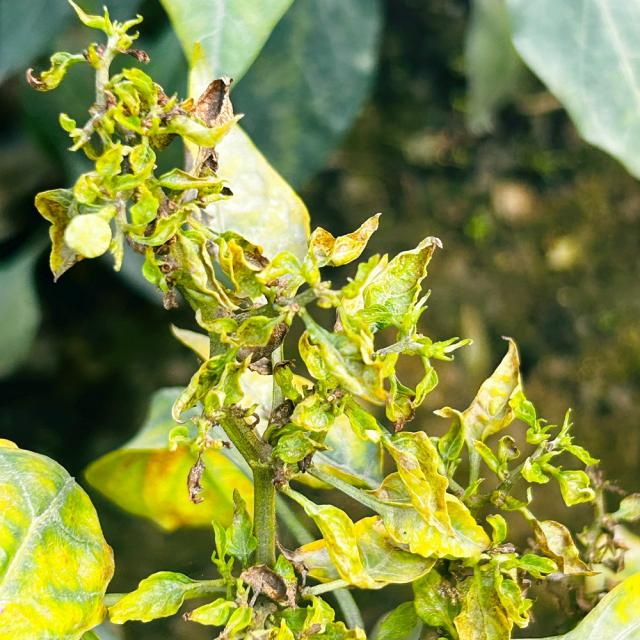Chilli_Leaf_Curl: (21, 1, 609, 638), (25, 1, 246, 310), (0, 436, 115, 638)
